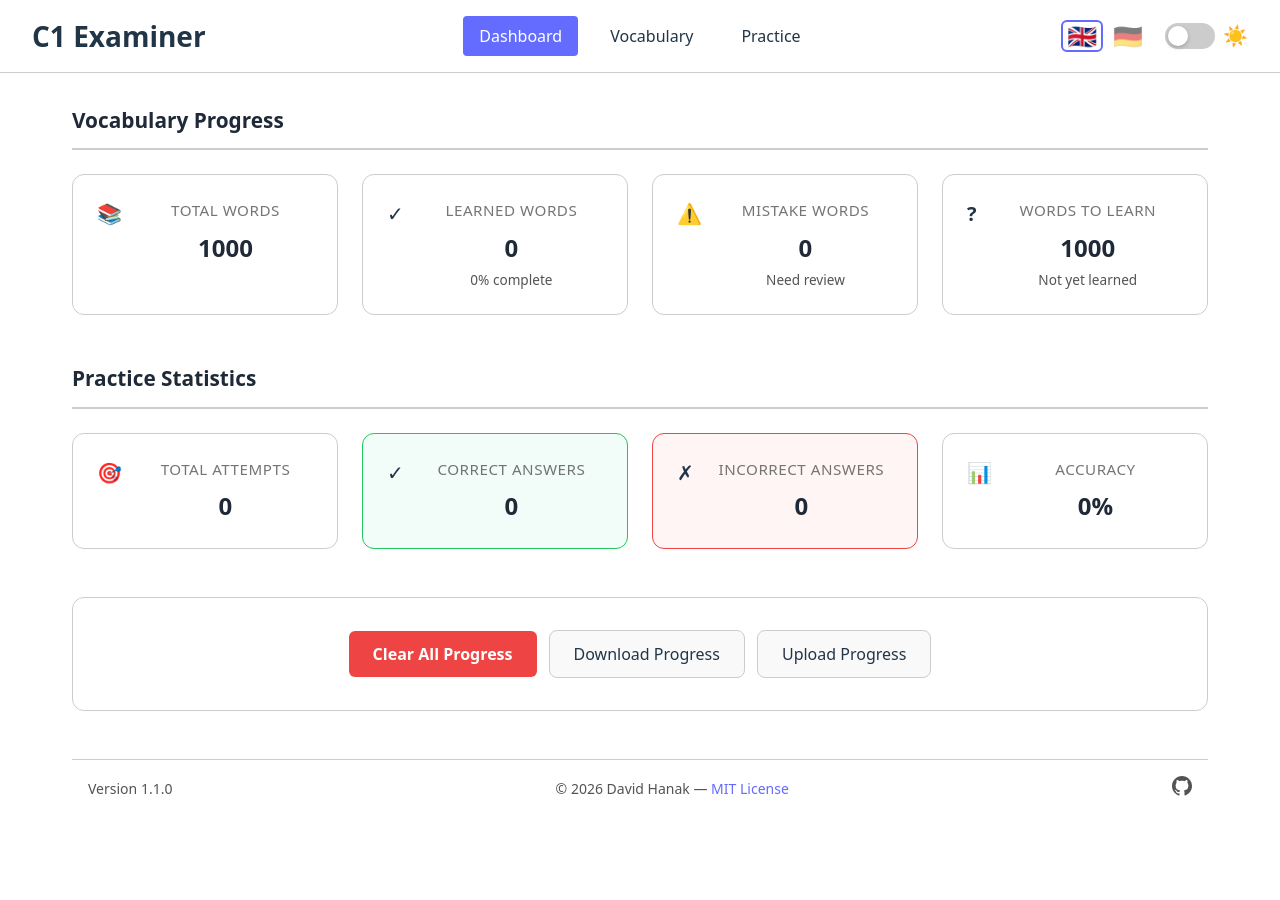
App Theme Switcher › toggles theme when button is clicked
// Click to switch to dark
Click the button named "toggle theme" at [1206, 36], box [1165,23,1248,49]
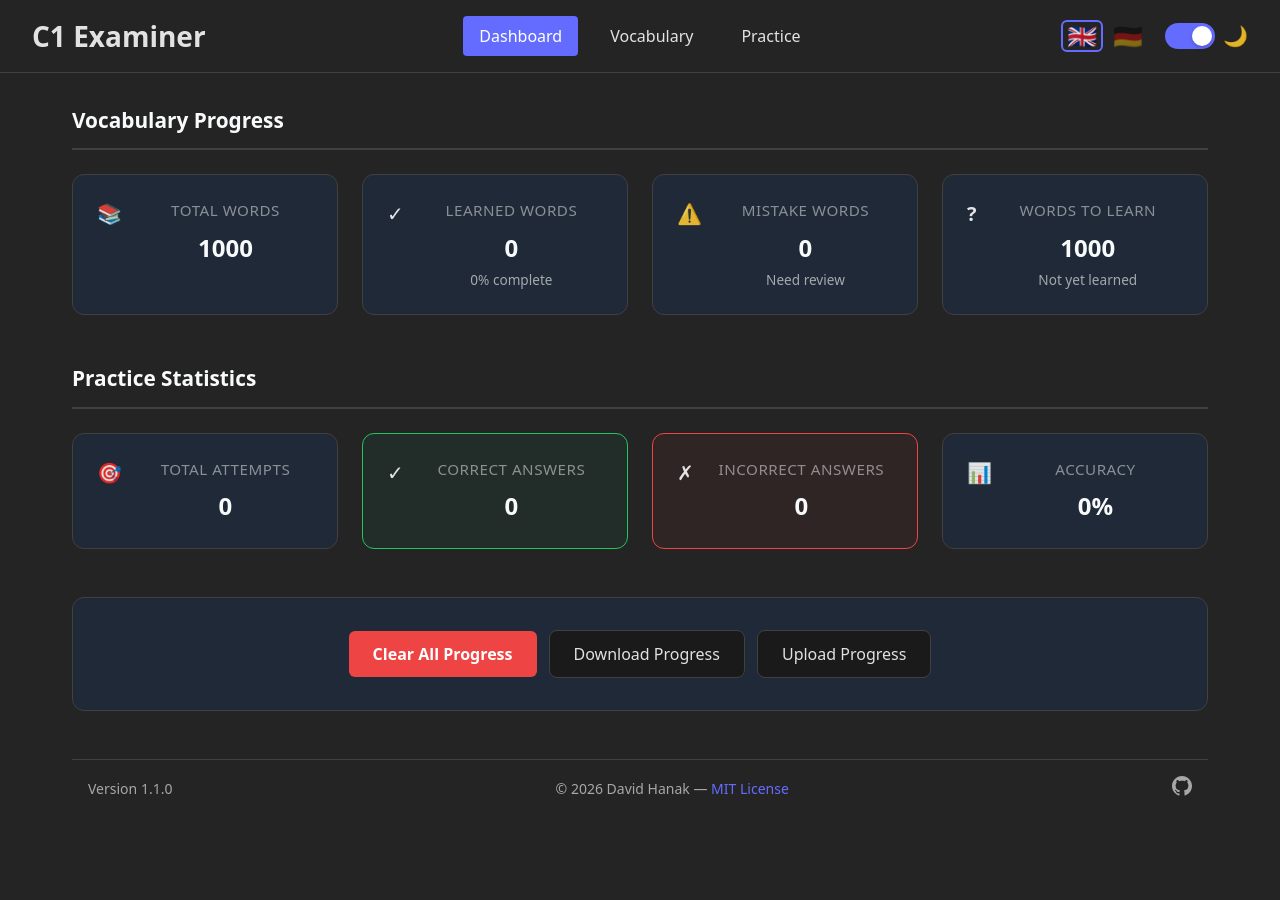
Expected: the button named "toggle theme" reads "🌙"
// Click again to switch back to light
Click the button named "toggle theme" at [1206, 36], box [1165,23,1248,49]
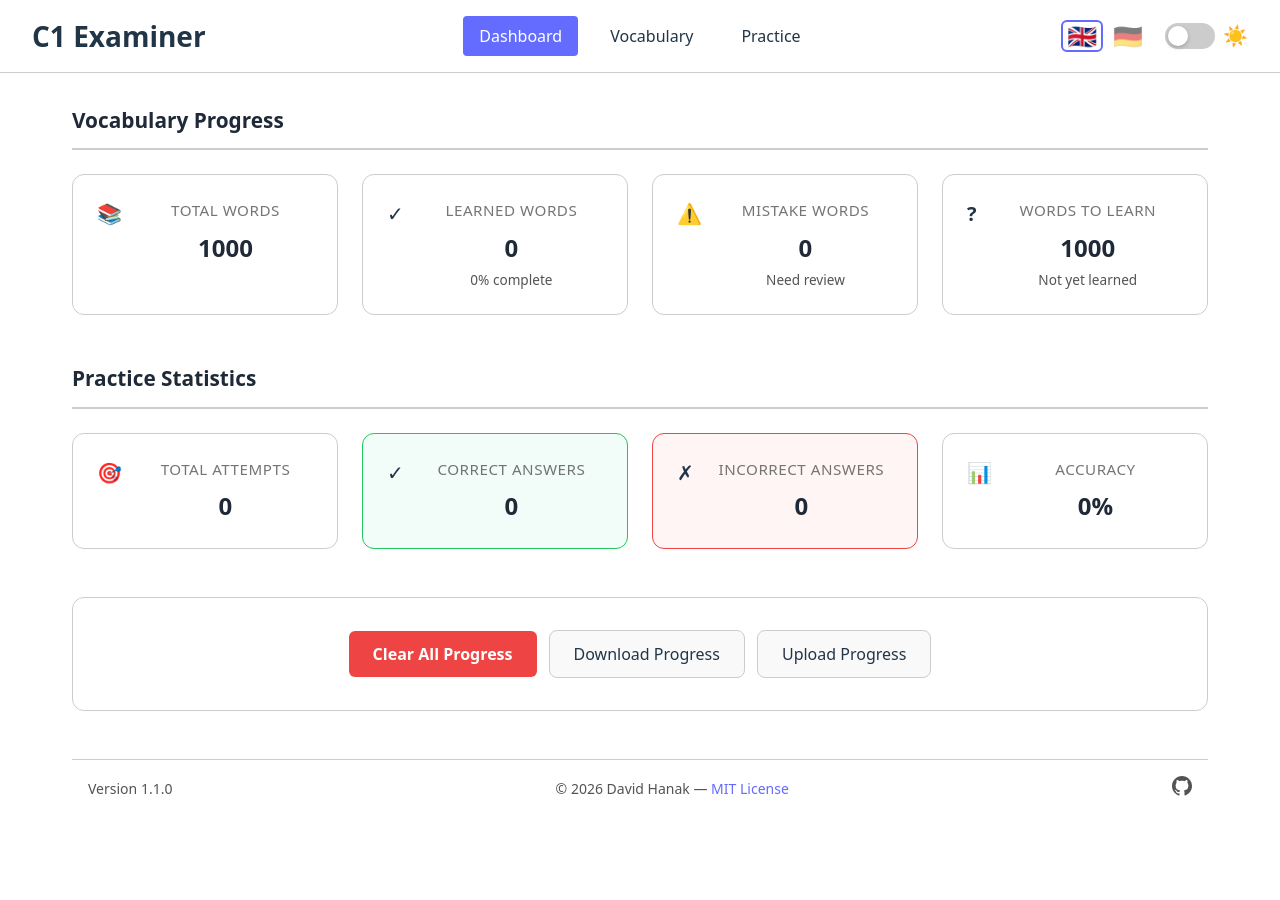
Expected: the button named "toggle theme" reads "☀️", [1165,23,1248,49]
